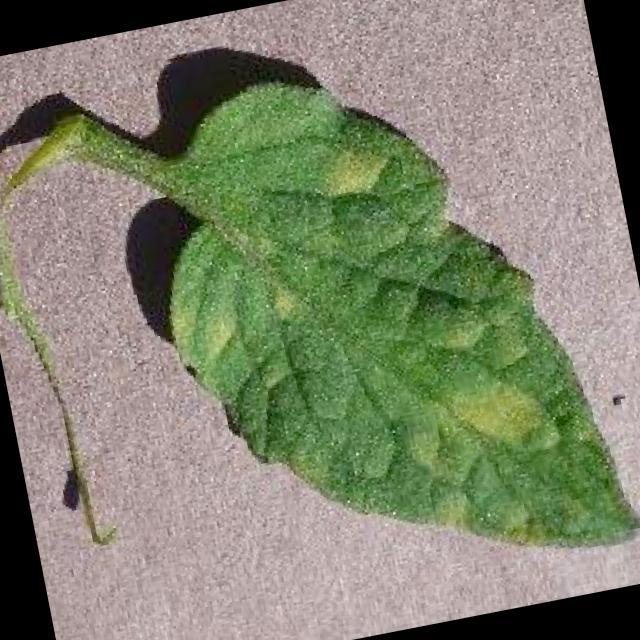Tomato mold leaf: (123, 29, 640, 620)
